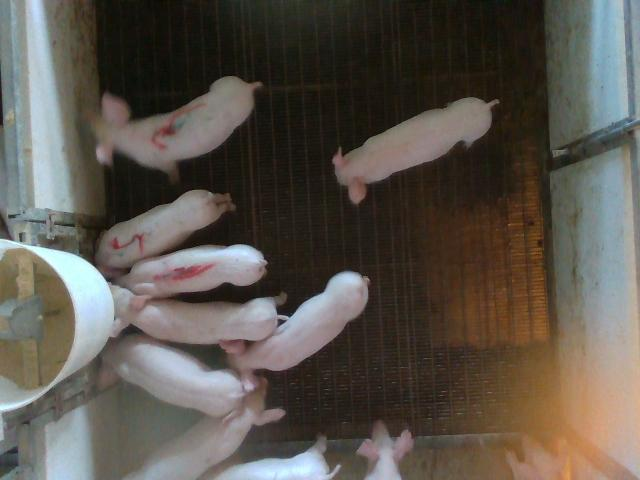pig-1: (118, 245, 266, 297)
pig-3: (92, 76, 261, 181)
pig-5: (95, 190, 235, 277)
